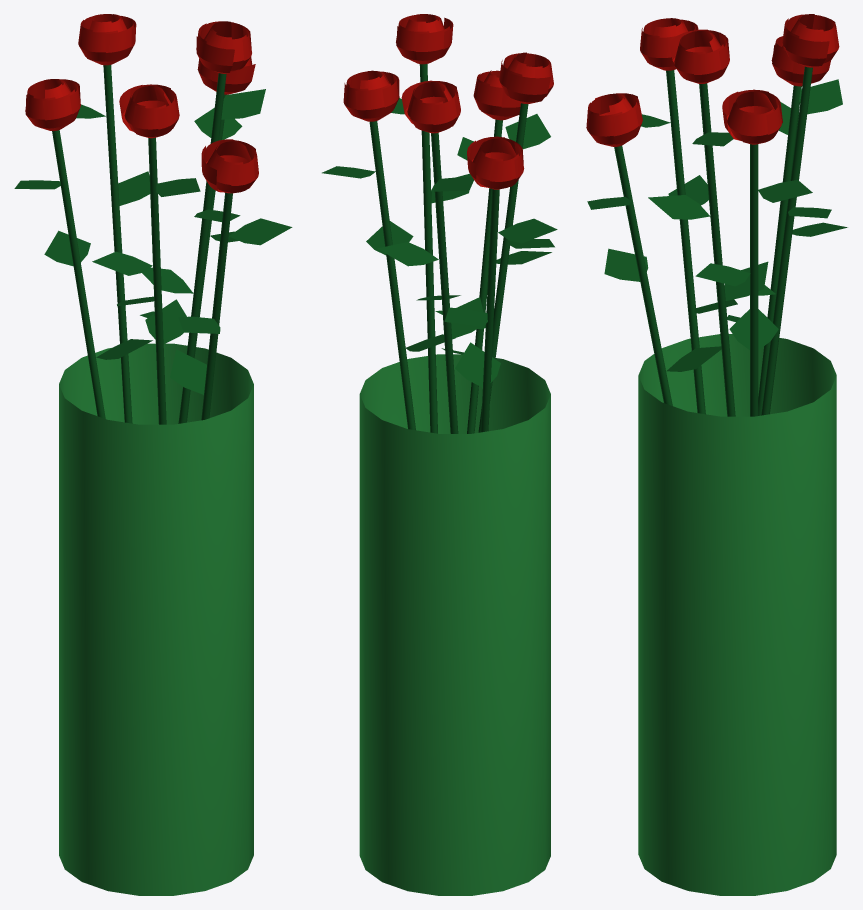
Rendered from vase2.fbx.
3 views of the same model, side by side, from view 1: azimuth 30°, elevation 25°; view 2: azimuth 150°, elevation 25°; view 3: azimuth 270°, elevation 25° (orthographic). The views are drawn at different scales.
Visible parts, largest first — view 1: 1:1, 3:1, 9:1, 13:1, 5:1, 11:1, 10:1, 4:1, 8:1, 12:1, 2:1, 7:1; view 2: 1:1, 5:1, 11:1, 7:1, 9:1, 13:1, 6:1, 12:1, 10:1, 3:1, 4:1, 8:1 (+1 smaller); view 3: 1:1, 7:1, 13:1, 3:1, 11:1, 10:1, 9:1, 12:1, 8:1, 6:1, 2:1, 4:1 (+1 smaller).
Boxes of the visible parts, x1=… form: 1:1: x1=59, y1=343, x2=253, y2=895; 3:1: x1=170, y1=139, x2=292, y2=394; 9:1: x1=92, y1=84, x2=200, y2=343; 13:1: x1=142, y1=21, x2=265, y2=293; 5:1: x1=14, y1=79, x2=152, y2=359; 11:1: x1=76, y1=14, x2=154, y2=306; 10:1: x1=103, y1=65, x2=132, y2=423; 4:1: x1=52, y1=130, x2=105, y2=418; 8:1: x1=148, y1=137, x2=166, y2=424; 12:1: x1=179, y1=73, x2=226, y2=423; 2:1: x1=201, y1=192, x2=232, y2=420; 7:1: x1=140, y1=56, x2=255, y2=318; 1:1: x1=359, y1=354, x2=550, y2=895; 5:1: x1=444, y1=136, x2=557, y2=387; 11:1: x1=377, y1=80, x2=483, y2=338; 7:1: x1=322, y1=70, x2=455, y2=351; 9:1: x1=435, y1=52, x2=554, y2=328; 13:1: x1=391, y1=14, x2=471, y2=300; 6:1: x1=369, y1=121, x2=415, y2=430; 12:1: x1=419, y1=64, x2=437, y2=433; 10:1: x1=431, y1=132, x2=458, y2=433; 3:1: x1=441, y1=70, x2=551, y2=354; 4:1: x1=481, y1=189, x2=499, y2=432; 8:1: x1=478, y1=103, x2=528, y2=432; 1:1: x1=638, y1=334, x2=836, y2=895; 7:1: x1=695, y1=89, x2=812, y2=349; 13:1: x1=648, y1=29, x2=768, y2=300; 3:1: x1=586, y1=93, x2=721, y2=371; 11:1: x1=758, y1=14, x2=842, y2=295; 10:1: x1=761, y1=66, x2=812, y2=415; 9:1: x1=640, y1=18, x2=737, y2=313; 12:1: x1=699, y1=83, x2=735, y2=416; 8:1: x1=666, y1=70, x2=705, y2=414; 6:1: x1=750, y1=144, x2=758, y2=416; 2:1: x1=614, y1=145, x2=672, y2=405; 4:1: x1=758, y1=85, x2=801, y2=415.
Bounding box in the file's own units: 0.2599 × 0.9091 × 0.2557.
